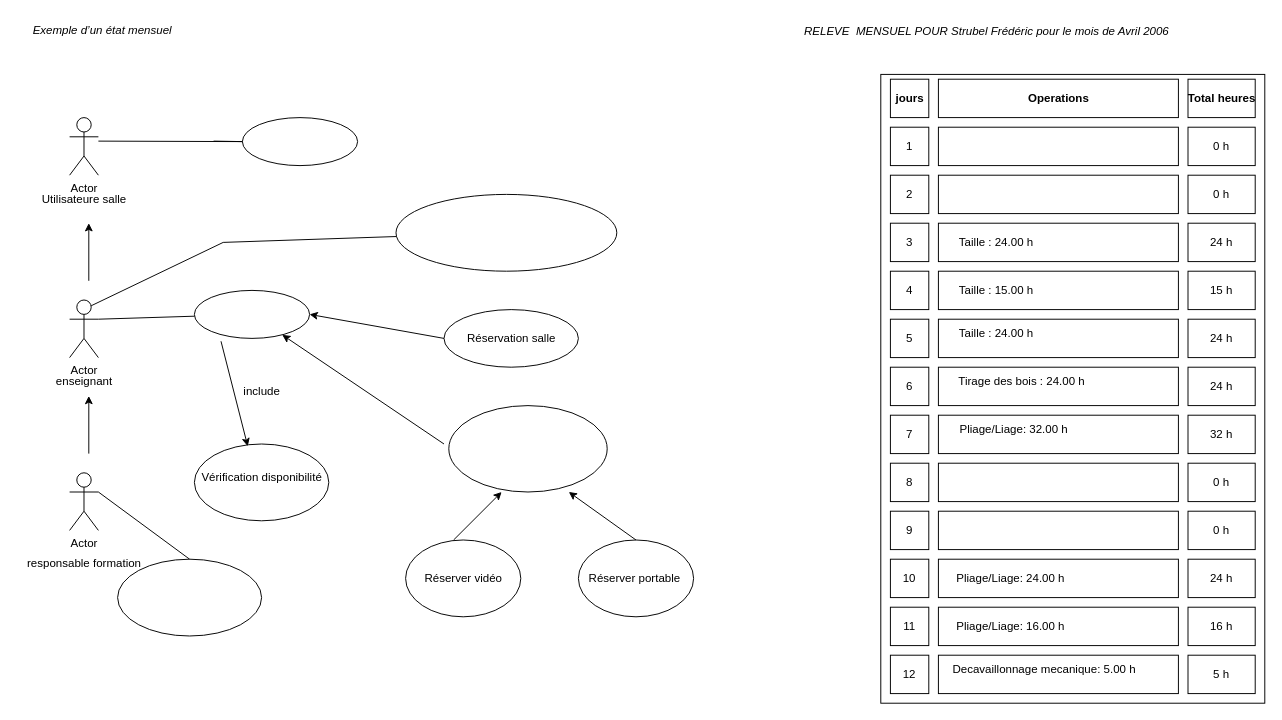
Some shapes in this 1282 by 720 pixel diagram are drawn without their labels. The shapes that lost their labels are listed below. From the top down, each one's centre as x and y in pixels, then its label:
At point 299,141: "consulter planing".
At point 506,232: "Consulter récap horaire enseignant".
At point 251,313: "Réservation".
At point 527,448: "Réserver matériel".
At point 189,597: "Editer récap formation".
